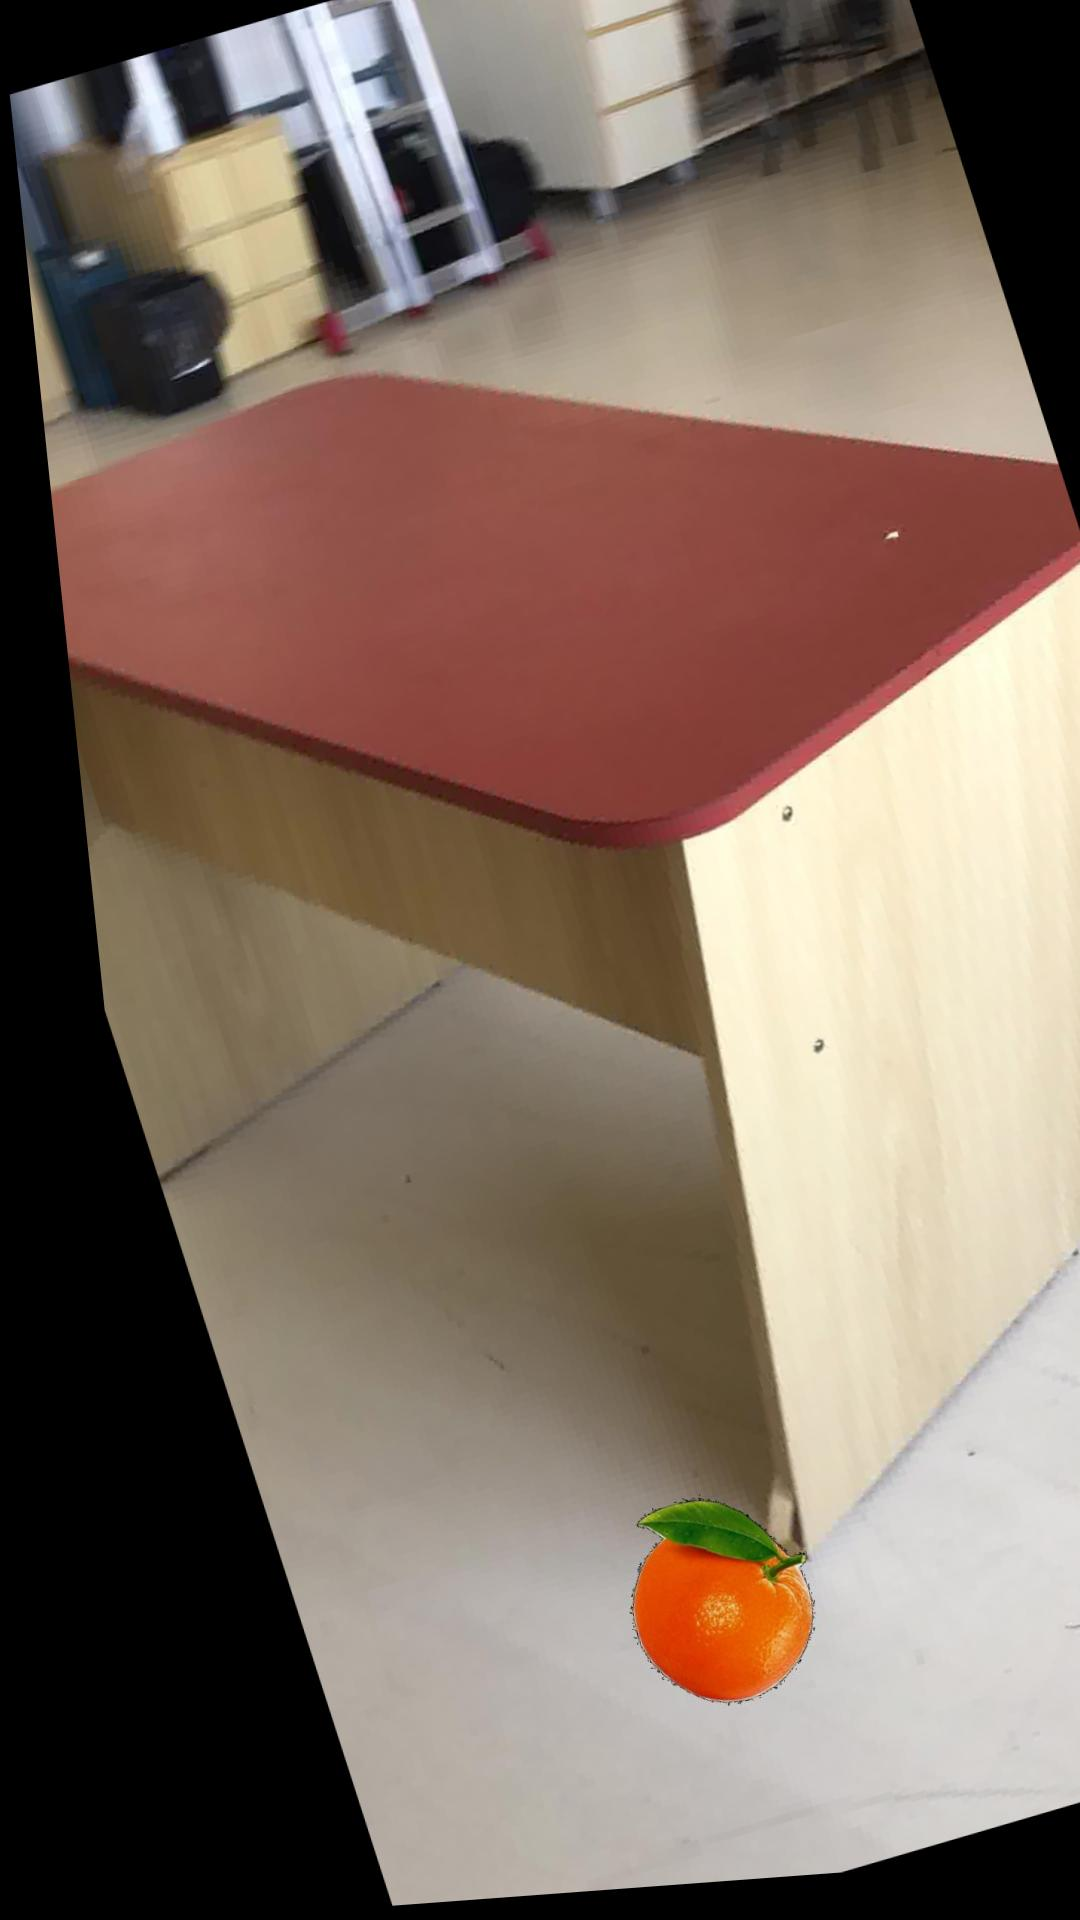orange: (593, 1503, 777, 1712)
